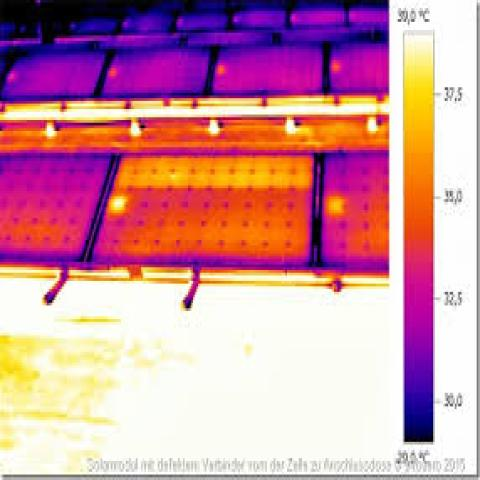fault: (113, 150, 318, 192), (104, 188, 138, 223), (324, 184, 350, 220)
